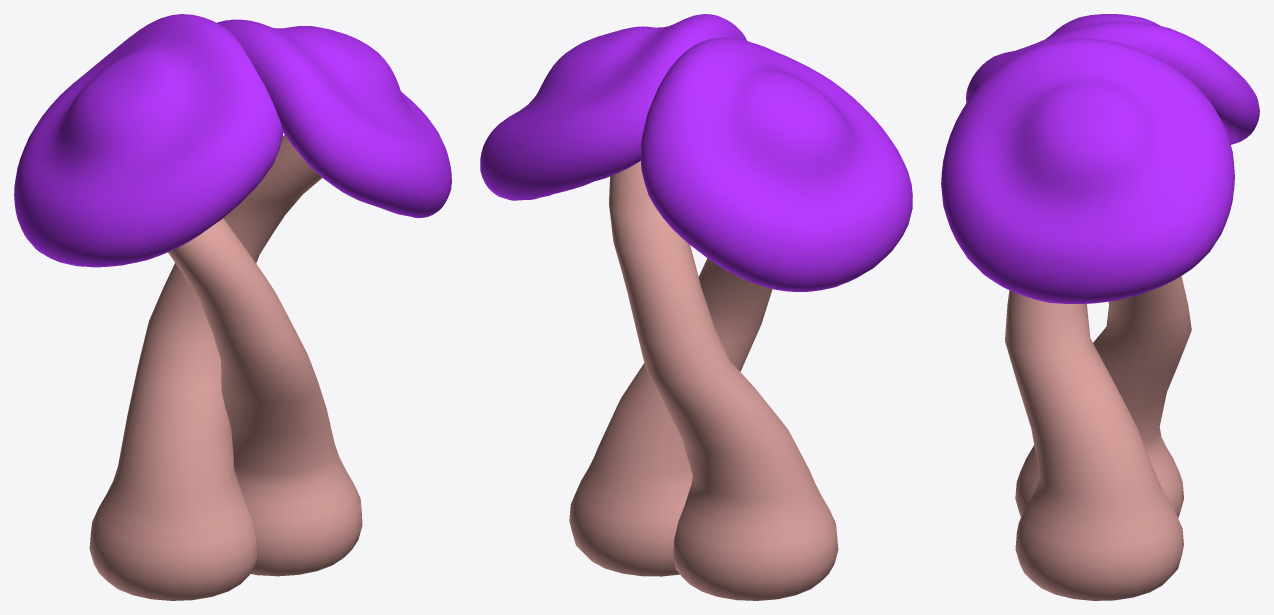
Rendered from Mushroom_twins.fbx.
3 renders of one model, left to right at view 1: azimuth 30°, elevation 25°; view 2: azimuth 150°, elevation 25°; view 3: azimuth 270°, elevation 25°, orthographic. The views are drawn at different scales.
Visible parts, largest first — view 1: Mushroom_twins; view 2: Mushroom_twins; view 3: Mushroom_twins.
Boxes of the visible parts, <box> form: Mushroom_twins: <box>14,14,451,600</box>; Mushroom_twins: <box>480,14,912,600</box>; Mushroom_twins: <box>941,14,1259,600</box>.
Size of the model in its own units: 1153 by 1478 by 825.
